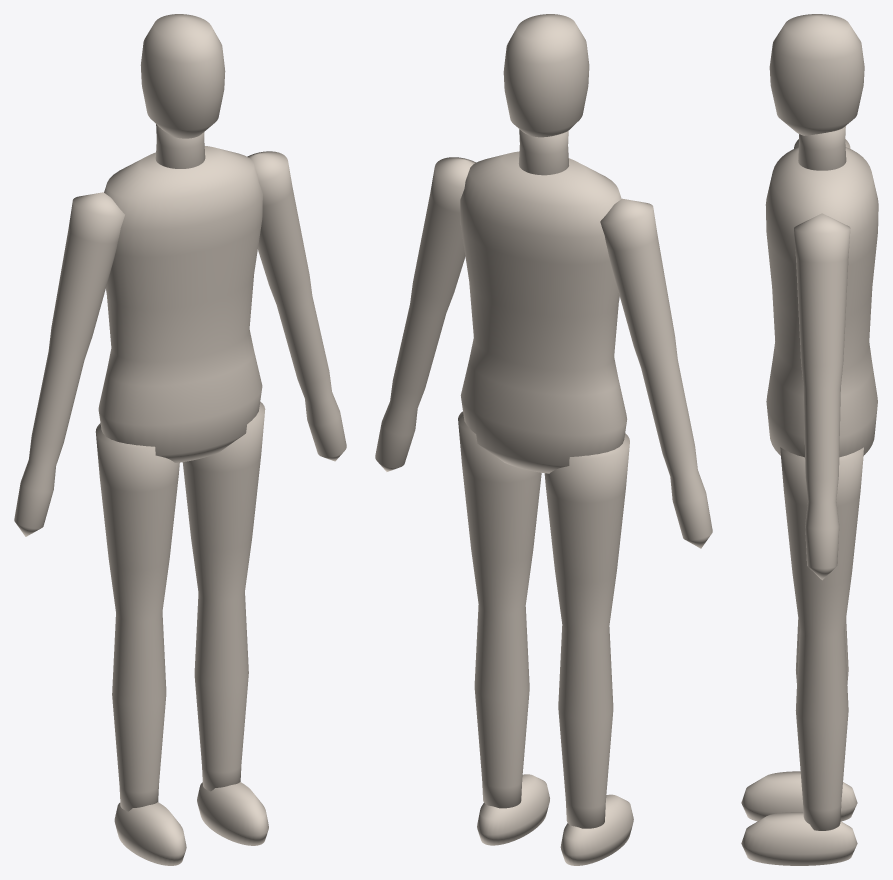
The model's file is base_avatar.glb.
3 renders of one model, left to right at view 1: azimuth 30°, elevation 25°; view 2: azimuth 150°, elevation 25°; view 3: azimuth 270°, elevation 25°, orthographic.
Visible parts, largest first — view 1: Body; view 2: Body; view 3: Body.
Boxes of the visible parts, <box> form: Body: <box>14,14,346,865</box>; Body: <box>375,14,712,865</box>; Body: <box>741,14,878,865</box>.
Size of the model in its own units: 0.7572 by 1.79 by 0.2716.
